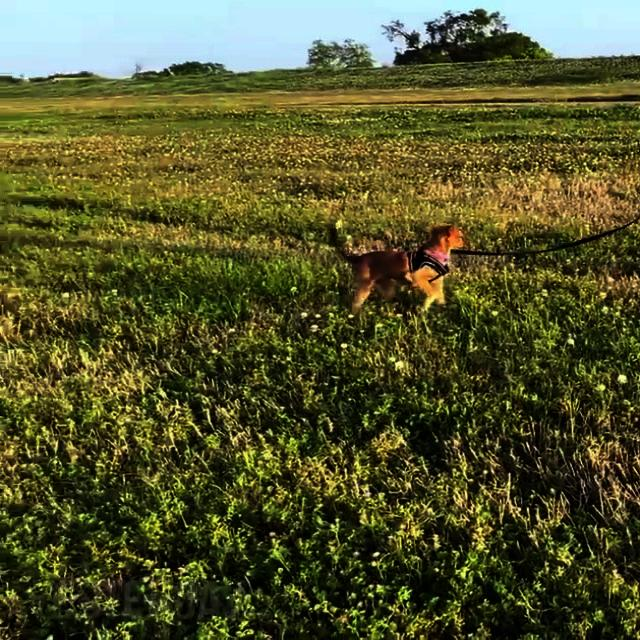Dog: (326, 222, 466, 310)
